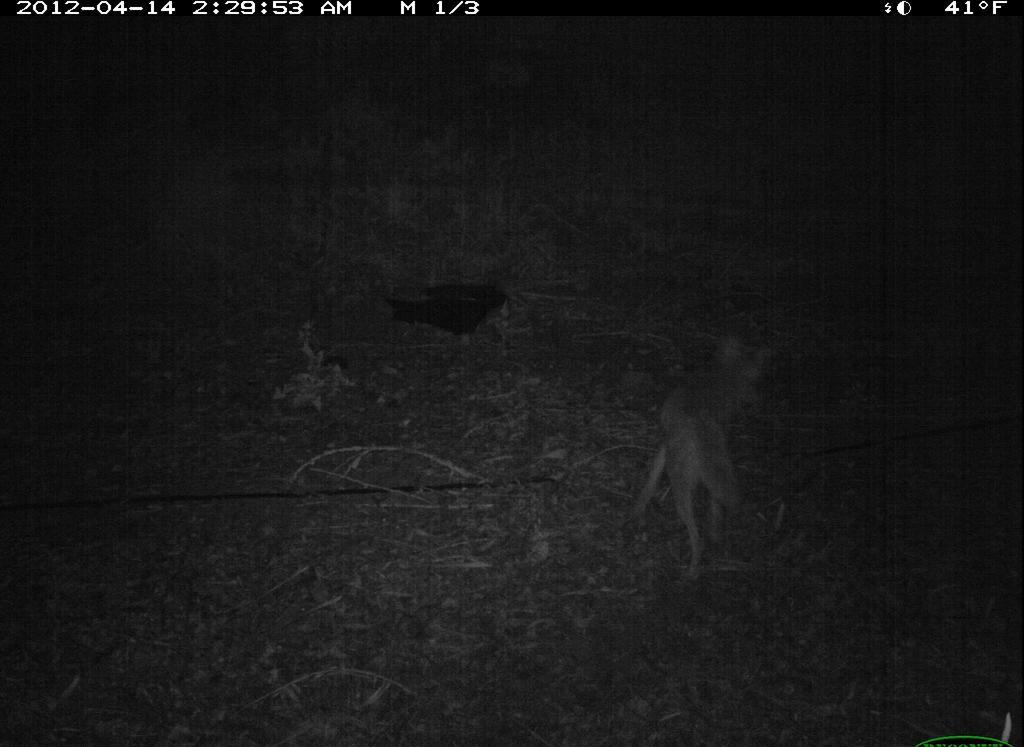coyote: (612, 319, 795, 602)
